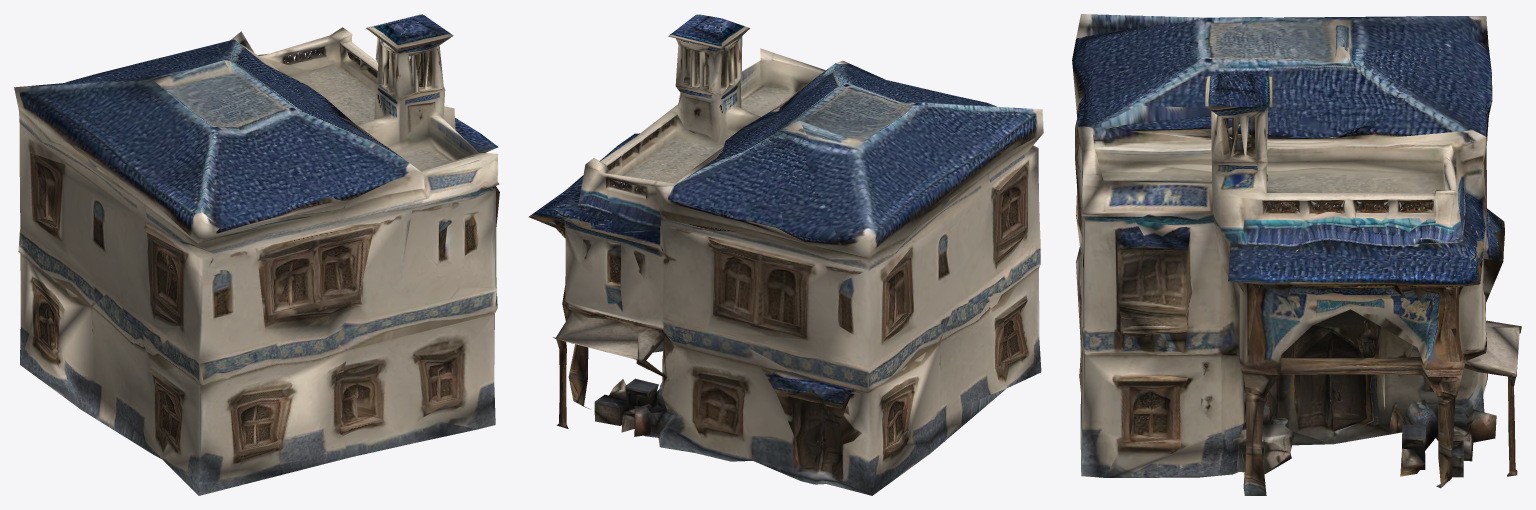
The model's file is house_merchant_2.glb.
3 views of the same model, side by side, from view 1: azimuth 30°, elevation 25°; view 2: azimuth 150°, elevation 25°; view 3: azimuth 270°, elevation 25° (orthographic). The views are drawn at different scales.
Parts seen in each view (by area): view 1: tripo_node_85479c51-2ba2-4342-b6e5-ea57296c1e8c; view 2: tripo_node_85479c51-2ba2-4342-b6e5-ea57296c1e8c; view 3: tripo_node_85479c51-2ba2-4342-b6e5-ea57296c1e8c.
Part boxes in pixels (x1,y1,x2,y2): tripo_node_85479c51-2ba2-4342-b6e5-ea57296c1e8c: (14,14,499,495); tripo_node_85479c51-2ba2-4342-b6e5-ea57296c1e8c: (529,14,1043,495); tripo_node_85479c51-2ba2-4342-b6e5-ea57296c1e8c: (1072,14,1521,495).
Size of the model in its own units: 0.9579 by 0.8836 by 0.9176.
1 material, 1 textured.
